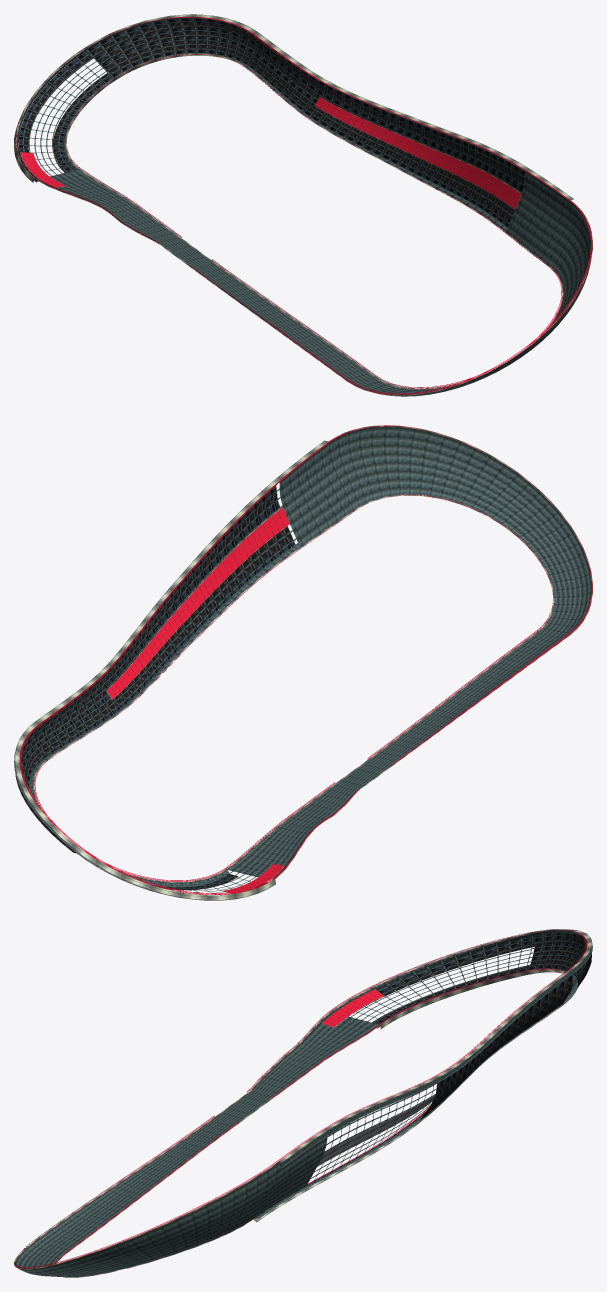
The model's file is pista.obj.
3 views of the same model, one above another, from view 1: azimuth 30°, elevation 25°; view 2: azimuth 150°, elevation 25°; view 3: azimuth 330°, elevation 25° (orthographic). The views are drawn at different scales.
Parts seen in each view (by area): view 1: C36_ROAD08.001_gxmat5, C36_ROAD08.001_gxmat35, C36_ROAD08.001_gxmat68, C36_ROAD08.001_gxmat110, C36_ROAD08.001_gxmat25, C36_ROAD08.001_gxmat72, C36_ROAD08.001_gxmat50, C36_ROAD08.001_gxmat48, C36_ROAD08.001_gxmat74, C36_ROAD08.001_gxmat90, C36_ROAD08.001_gxmat33, C36_ROAD08.001_gxmat76 (+14 smaller); view 2: C36_ROAD08.001_gxmat25, C36_ROAD08.001_gxmat16, C36_ROAD08.001_gxmat35, C36_ROAD08.001_gxmat5, C36_ROAD08.001_gxmat110, C36_ROAD08.001_gxmat68, C36_ROAD08.001_gxmat48, C36_ROAD08.001_gxmat50, C36_ROAD08.001_gxmat33, C36_ROAD08.001_gxmat31, C36_ROAD08.001_gxmat47, C36_ROAD08.001_gxmat53 (+11 smaller); view 3: C36_ROAD08.001_gxmat25, C36_ROAD08.001_gxmat5, C36_ROAD08.001_gxmat110, C36_ROAD08.001_gxmat90, C36_ROAD08.001_gxmat16, C36_ROAD08.001_gxmat35, C36_ROAD08.001_gxmat41, C36_ROAD08.001_gxmat92, C36_ROAD08.001_gxmat52, C36_ROAD08.001_gxmat33, C36_ROAD08.001_gxmat65, C36_ROAD08.001_gxmat72 (+13 smaller).
Boxes of the visible parts, box(x1,y1,x2,y2) form: C36_ROAD08.001_gxmat5: box(191, 261, 375, 382); C36_ROAD08.001_gxmat35: box(506, 171, 570, 264); C36_ROAD08.001_gxmat68: box(315, 97, 520, 209); C36_ROAD08.001_gxmat110: box(36, 169, 195, 254); C36_ROAD08.001_gxmat25: box(541, 202, 592, 340); C36_ROAD08.001_gxmat72: box(94, 27, 258, 72); C36_ROAD08.001_gxmat50: box(246, 37, 422, 171); C36_ROAD08.001_gxmat48: box(253, 45, 423, 160); C36_ROAD08.001_gxmat74: box(86, 17, 255, 77); C36_ROAD08.001_gxmat90: box(16, 49, 113, 177); C36_ROAD08.001_gxmat33: box(405, 125, 524, 231); C36_ROAD08.001_gxmat76: box(88, 18, 258, 57); C36_ROAD08.001_gxmat25: box(328, 426, 516, 511); C36_ROAD08.001_gxmat16: box(481, 473, 591, 637); C36_ROAD08.001_gxmat35: box(279, 443, 352, 546); C36_ROAD08.001_gxmat5: box(369, 632, 566, 765); C36_ROAD08.001_gxmat110: box(227, 772, 374, 878); C36_ROAD08.001_gxmat68: box(107, 507, 289, 699); C36_ROAD08.001_gxmat48: box(34, 607, 182, 751); C36_ROAD08.001_gxmat50: box(37, 592, 191, 758); C36_ROAD08.001_gxmat33: box(173, 481, 299, 640); C36_ROAD08.001_gxmat31: box(171, 500, 289, 629); C36_ROAD08.001_gxmat47: box(183, 532, 295, 639); C36_ROAD08.001_gxmat53: box(41, 630, 187, 758); C36_ROAD08.001_gxmat25: box(90, 1163, 278, 1268); C36_ROAD08.001_gxmat5: box(39, 1117, 237, 1250); C36_ROAD08.001_gxmat110: box(232, 1011, 378, 1110); C36_ROAD08.001_gxmat90: box(333, 933, 532, 1024); C36_ROAD08.001_gxmat16: box(15, 1239, 125, 1277); C36_ROAD08.001_gxmat35: box(254, 1137, 327, 1217); C36_ROAD08.001_gxmat41: box(254, 1080, 436, 1218); C36_ROAD08.001_gxmat92: box(350, 936, 534, 1015); C36_ROAD08.001_gxmat52: box(435, 975, 572, 1094); C36_ROAD08.001_gxmat33: box(307, 1085, 433, 1185); C36_ROAD08.001_gxmat65: box(317, 1094, 435, 1166); C36_ROAD08.001_gxmat72: box(530, 944, 591, 983).
Size of the model in its own units: 980 by 527 by 2981.
